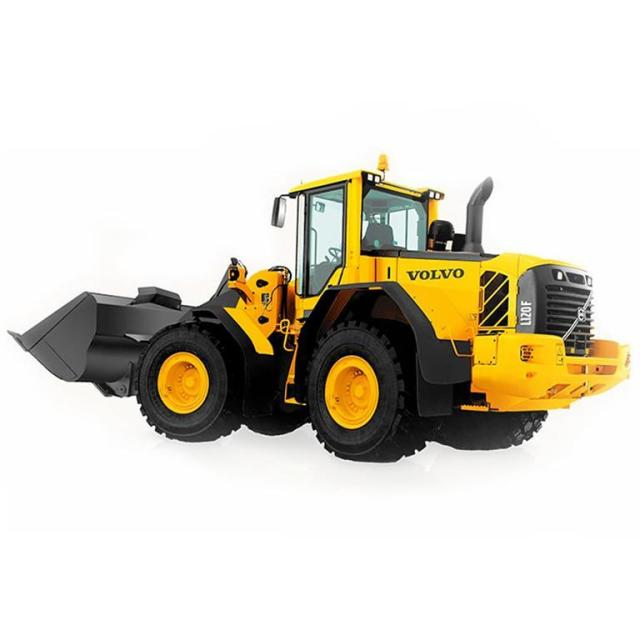buldozerpayloadergrader: (8, 160, 632, 471)
